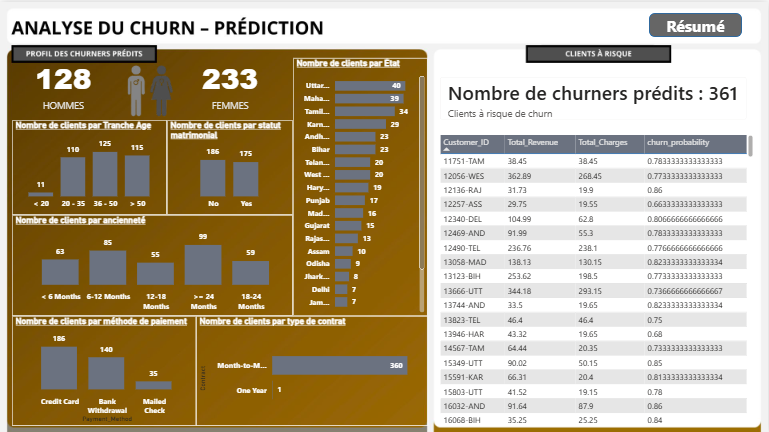

This screenshot's page, from the dashboard's own definition file:
{"tool":"powerbi","page":{"name":"Prédiction du churn","canvas":[1280,720],"ordinal":2},"visuals":[{"type":"image","box":[46.7,0,393.3,293.3],"z":0},{"type":"cardVisual","fields":{"Data":["Table_Mesures.Clients à risque de churn"]},"box":[728.3,105,531.7,111.7],"z":1000},{"type":"cardVisual","fields":{"Data":["Table_Mesures.Nombre de churners prédits"]},"box":[278.3,80,210,116.7],"z":2000},{"type":"cardVisual","fields":{"Data":["Table_Mesures.Nombre de churners prédits"]},"box":[20,80,171.7,116.7],"z":3000},{"type":"clusteredColumnChart","fields":{"Category":["mapping_agegrp.Tranche Age"],"Y":["CountNonNull(churn_high_risk_customers.Customer_ID)"]},"box":[20,196.7,258.3,158.3],"z":4000},{"type":"clusteredColumnChart","fields":{"Y":["CountNonNull(churn_high_risk_customers.Customer_ID)"],"Category":["churn_high_risk_customers.Married"]},"box":[278.3,196.7,210,158.3],"z":5000},{"type":"clusteredColumnChart","fields":{"Y":["CountNonNull(churn_high_risk_customers.Customer_ID)"],"Category":["mapping_tenuregrp.Tenure Group "]},"box":[20,355,468.3,168.3],"z":6000},{"type":"clusteredColumnChart","fields":{"Y":["CountNonNull(churn_high_risk_customers.Customer_ID)"],"Category":["churn_high_risk_customers.Payment_Method"]},"box":[20,523.3,306.7,183.3],"z":7000},{"type":"clusteredBarChart","fields":{"Category":["churn_high_risk_customers.Contract"],"Y":["CountNonNull(churn_high_risk_customers.Customer_ID)"]},"box":[326.7,523.3,386.7,183.3],"z":8000},{"type":"clusteredBarChart","fields":{"Y":["CountNonNull(churn_high_risk_customers.Customer_ID)"],"Category":["churn_high_risk_customers.State"]},"box":[488.3,93.3,225,430],"z":9000},{"type":"tableEx","fields":{"Values":["churn_high_risk_customers.Customer_ID","churn_high_risk_customers.Total_Revenue","churn_high_risk_customers.Total_Charges","churn_high_risk_customers.churn_probability"]},"box":[728.3,216.7,531.7,490],"z":10000},{"type":"shape","box":[1081.7,18.3,155,40],"z":10001}]}

Visuals, with their boxes in screenshot pixels (x1, y1, x2, y2), scaled from the page's 1280x720 canvas onto the 769x432 screenshot:
image: (left=28, top=0, right=264, bottom=176)
cardVisual - Table_Mesures.Clients à risque de churn: (left=438, top=63, right=757, bottom=130)
cardVisual - Table_Mesures.Nombre de churners prédits: (left=167, top=48, right=293, bottom=118)
cardVisual - Table_Mesures.Nombre de churners prédits: (left=12, top=48, right=115, bottom=118)
clusteredColumnChart - mapping_agegrp.Tranche Age x CountNonNull(churn_high_risk_customers.Customer_ID): (left=12, top=118, right=167, bottom=213)
clusteredColumnChart - CountNonNull(churn_high_risk_customers.Customer_ID) x churn_high_risk_customers.Married: (left=167, top=118, right=293, bottom=213)
clusteredColumnChart - CountNonNull(churn_high_risk_customers.Customer_ID) x mapping_tenuregrp.Tenure Group : (left=12, top=213, right=293, bottom=314)
clusteredColumnChart - CountNonNull(churn_high_risk_customers.Customer_ID) x churn_high_risk_customers.Payment_Method: (left=12, top=314, right=196, bottom=424)
clusteredBarChart - churn_high_risk_customers.Contract x CountNonNull(churn_high_risk_customers.Customer_ID): (left=196, top=314, right=429, bottom=424)
clusteredBarChart - CountNonNull(churn_high_risk_customers.Customer_ID) x churn_high_risk_customers.State: (left=293, top=56, right=429, bottom=314)
tableEx - churn_high_risk_customers.Customer_ID x churn_high_risk_customers.Total_Revenue: (left=438, top=130, right=757, bottom=424)
shape: (left=650, top=11, right=743, bottom=35)
